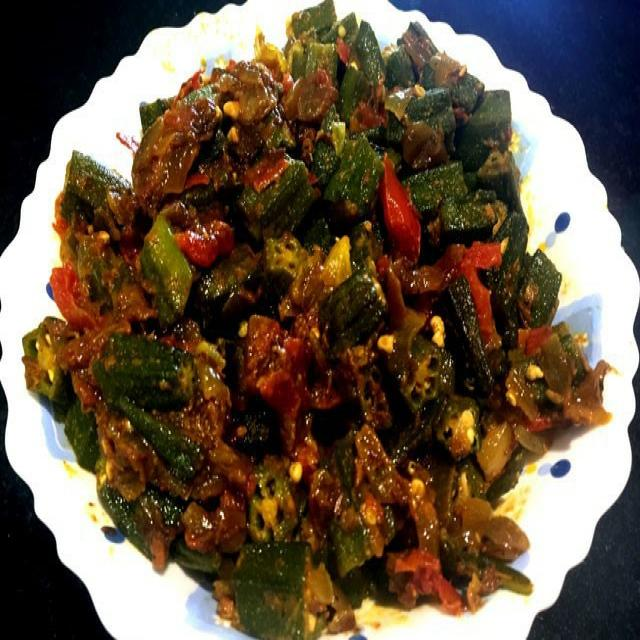BhindiMasala: (21, 0, 619, 640)
